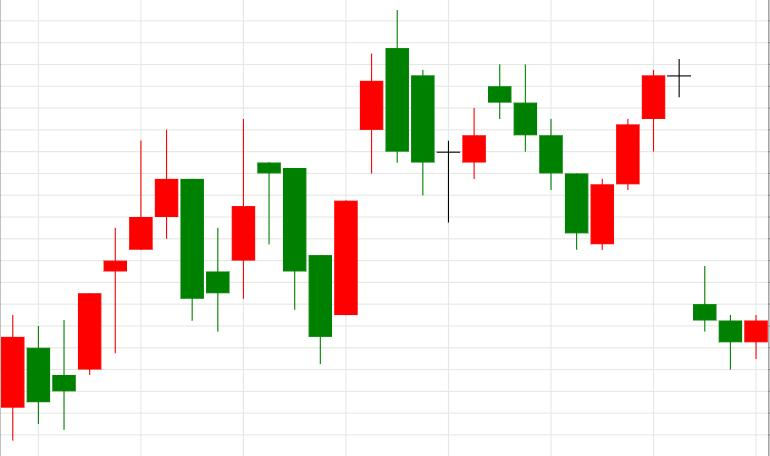shooting_star_fall: (53, 129, 179, 430)
three_white_soldiers_rise: (488, 64, 666, 250)
